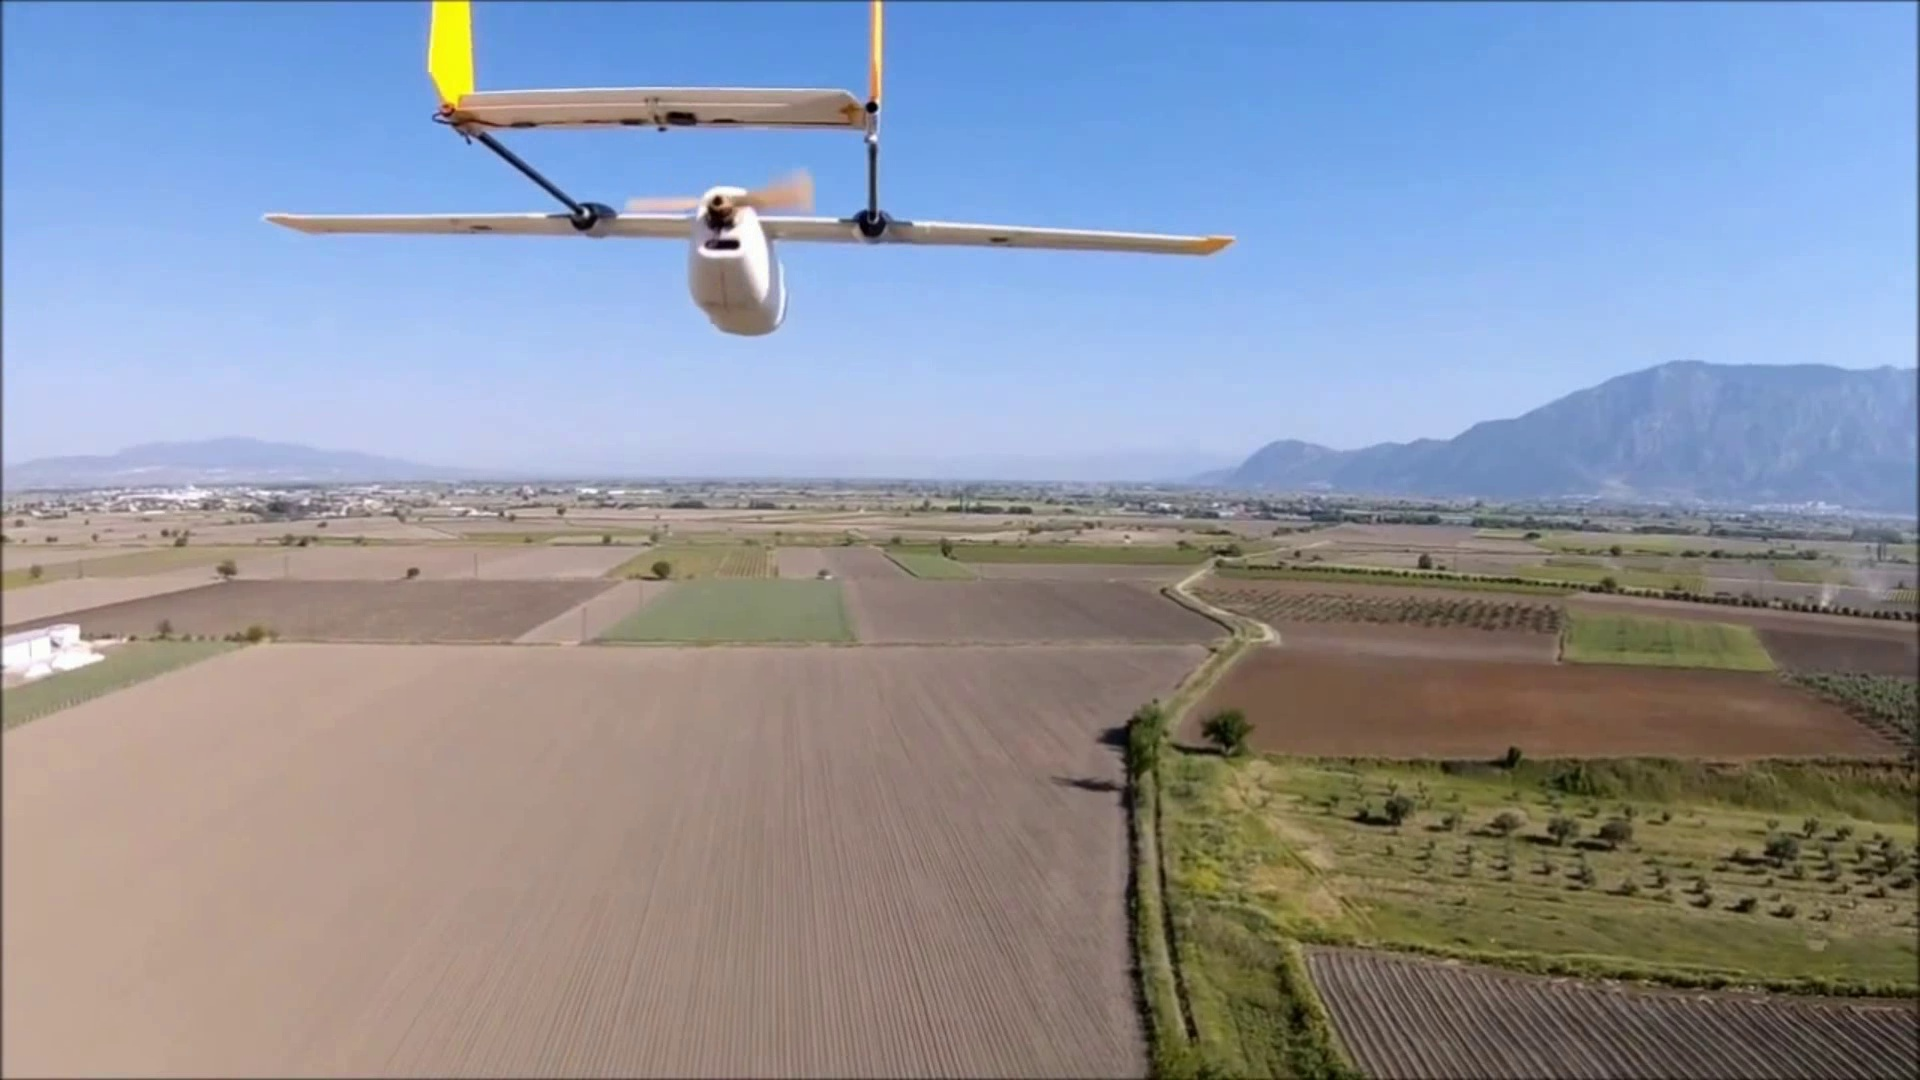airplane: (262, 7, 1232, 338)
